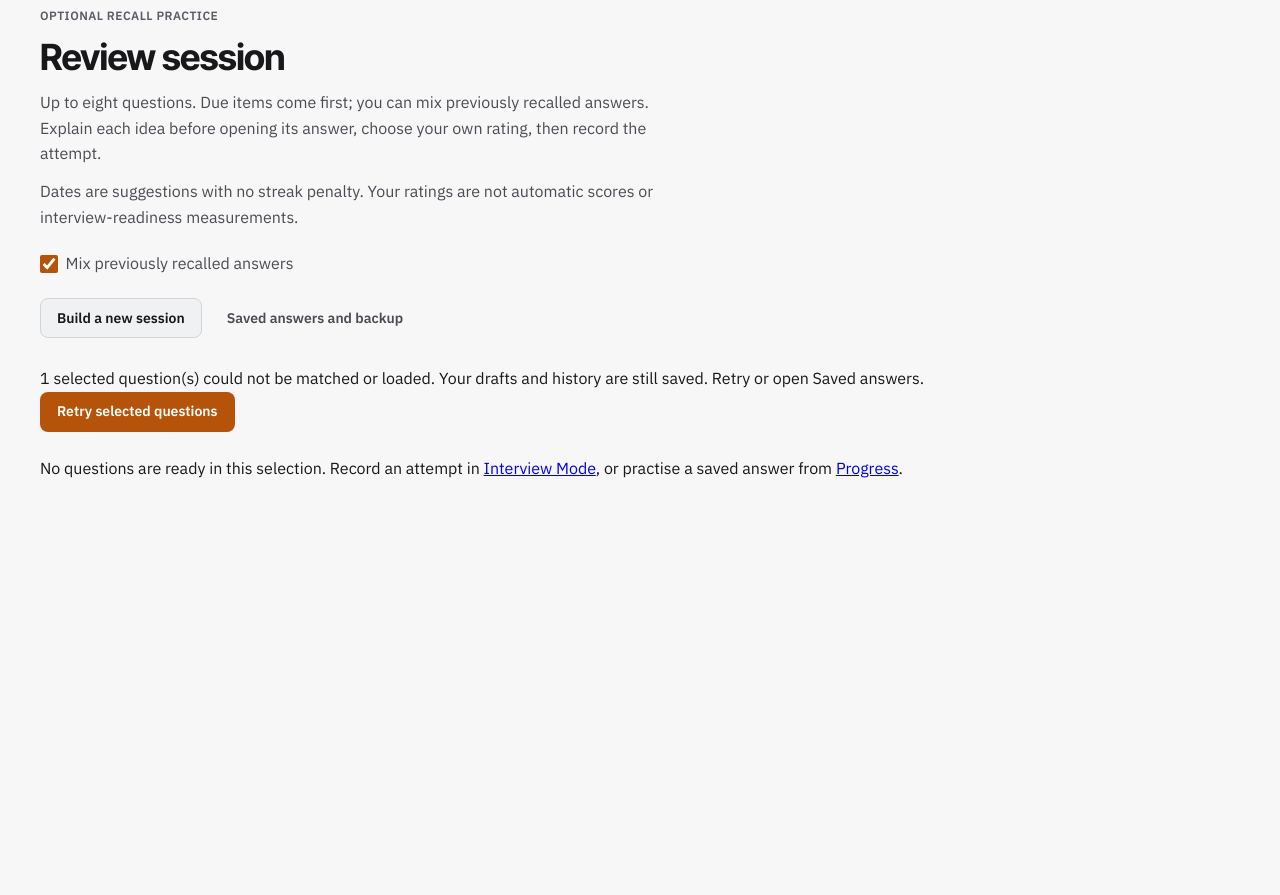
Test case: retries the frozen selection rather than substituting another question and preserves saved explanations
The width and height of the screenshot is (1280, 895).
Step 1. Click the button "Retry selected questions" → {"x": 137, "y": 412}, box [40,392,234,432]
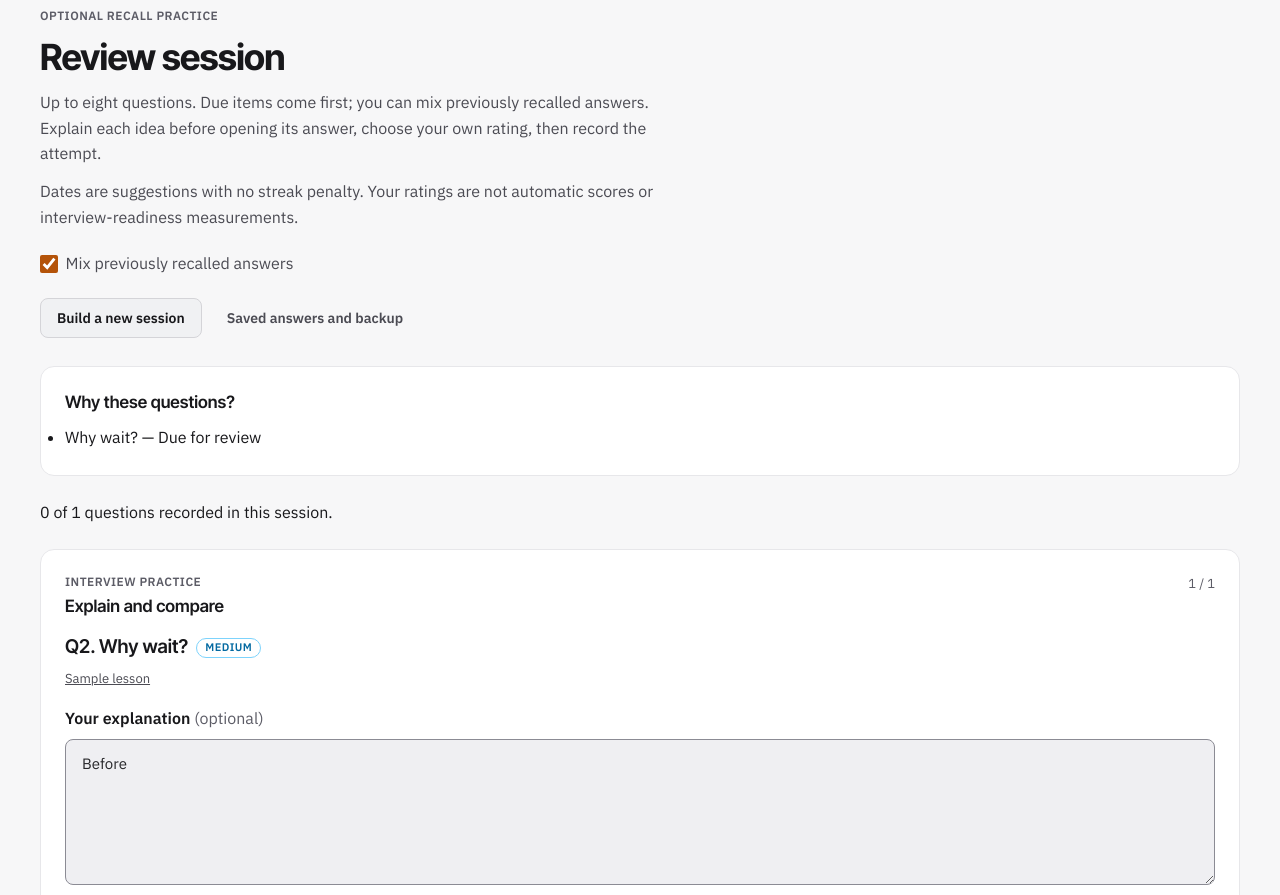
Result: the text "Q2. Why wait?" is shown at [65,635,188,658]
Result: the text "1 / 1" is shown at [1188,574,1215,595]
